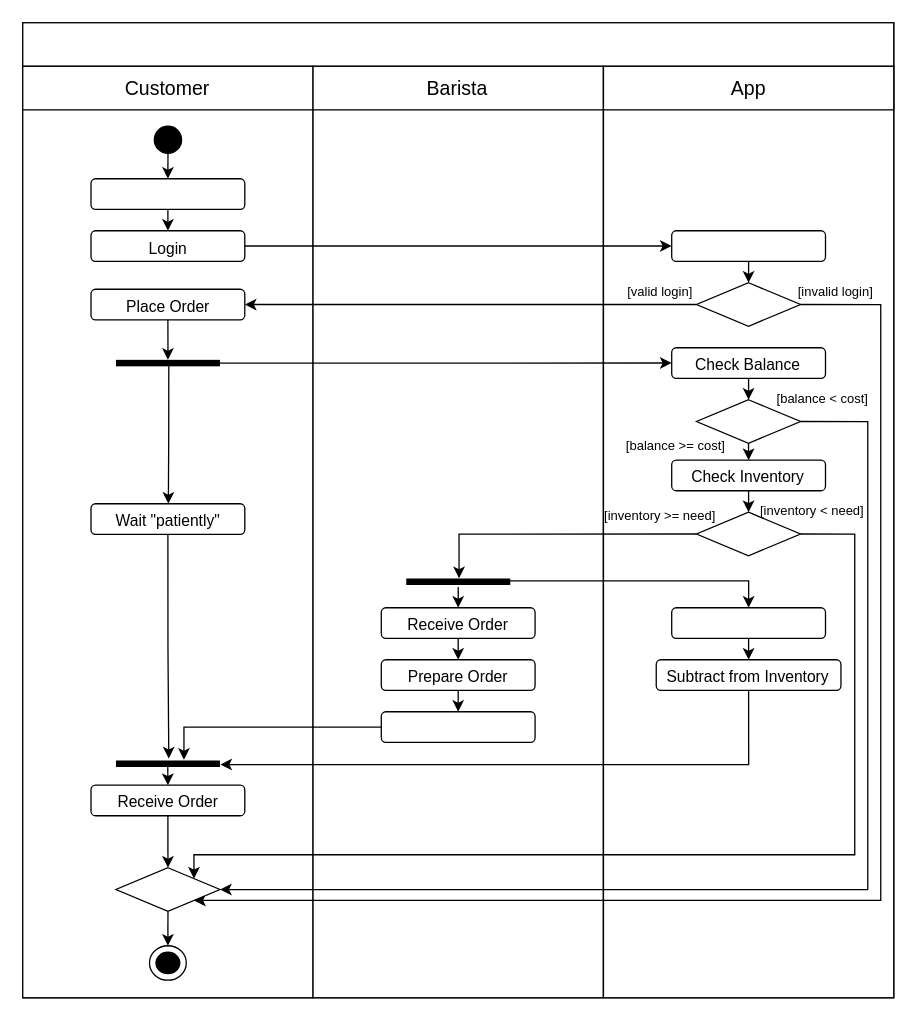
This 916x1020 diagram has some shape labels left out. Each missing label, with the centre of its shape:
"Authorize" belongs at (x=748, y=245).
"Debit Account" belongs at (x=748, y=622).
"Deliver Order" belongs at (x=457, y=726).
"Open App" belongs at (x=167, y=193).
"Placing an Order" belongs at (x=457, y=43).
